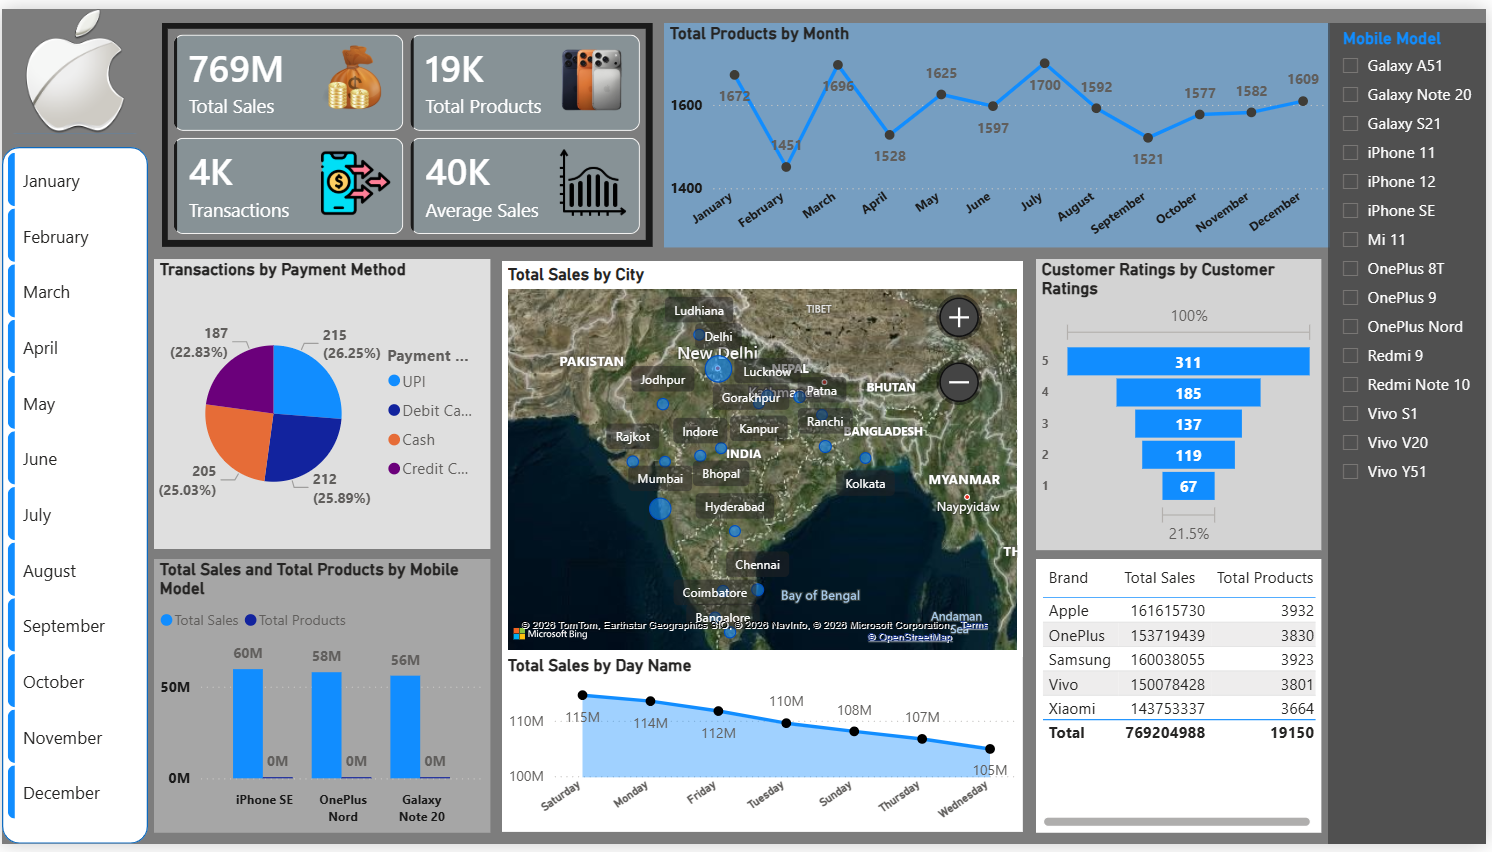

This screenshot's page, from the dashboard's own definition file:
{"tool":"powerbi","page":{"name":"Page 1","canvas":[1280,720],"ordinal":0},"visuals":[{"type":"shape","box":[0,0,125.9,107.7],"z":0},{"type":"image","box":[0,0,125.9,107.7],"z":1000},{"type":"shape","box":[0,119.8,125.9,600.6],"z":2000},{"type":"advancedSlicerVisual","fields":{"Values":["Data.Date.Variation.Date Hierarchy.Month"]},"box":[0,119.8,113.7,590],"z":3000},{"type":"cardVisual","fields":{"Data":["Data.Total Sales","Data.Total Products","Data.Transactions","Data.Average"]},"box":[137.1,11.4,422.9,192.9],"z":4000},{"type":"map","fields":{"Category":["Data.City"],"Size":["Data.Total Sales"]},"box":[431.1,216.4,449.2,341],"z":5000},{"type":"lineChart","fields":{"Category":["Data.Date.Variation.Date Hierarchy.Month"],"Y":["Data.Total Products"]},"box":[570.5,11.5,573.8,193.4],"z":6000},{"type":"clusteredColumnChart","fields":{"Y":["Data.Total Sales","Data.Total Products"],"Category":["Data.Mobile Model"]},"box":[131.1,473.8,290.2,236.1],"z":7000},{"type":"pieChart","fields":{"Category":["Data.Payment Method"],"Y":["Data.Transactions"]},"box":[131.4,215.7,290,250],"z":8000},{"type":"funnel","title":"Customer Ratings by Customer Ratings","fields":{"Category":["Data.Customer Ratings"],"Y":["CountNonNull(Data.Customer Ratings)"]},"box":[891.8,214.8,245.9,250.8],"z":9000},{"type":"areaChart","fields":{"Category":["Data.Day Name"],"Y":["Data.Total Sales"]},"box":[431.1,557.4,449.2,152.5],"z":10000},{"type":"tableEx","fields":{"Values":["Data.Brand","Data.Total Sales","Data.Total Products"]},"box":[891.8,473.8,245.9,236.1],"z":11000},{"type":"slicer","fields":{"Values":["Data.Mobile Model"]},"box":[1142.3,11.5,137.7,708.2],"z":12000}]}

Visuals, with their boxes in screenshot pixels (x1, y1, x2, y2), scaled from the page's 1280x720 canvas onto the 1492x852 screenshot:
shape: (0,0,147,127)
image: (0,0,147,127)
shape: (0,142,147,851)
advancedSlicerVisual - Data.Date.Variation.Date Hierarchy.Month: (0,142,133,840)
cardVisual - Data.Total Sales x Data.Total Products: (160,13,653,242)
map - Data.City x Data.Total Sales: (503,256,1026,660)
lineChart - Data.Date.Variation.Date Hierarchy.Month x Data.Total Products: (665,14,1334,242)
clusteredColumnChart - Data.Total Sales x Data.Total Products: (153,561,491,840)
pieChart - Data.Payment Method x Data.Transactions: (153,255,491,551)
"Customer Ratings by Customer Ratings" funnel: (1040,254,1326,551)
areaChart - Data.Day Name x Data.Total Sales: (503,660,1026,840)
tableEx - Data.Brand x Data.Total Sales: (1040,561,1326,840)
slicer - Data.Mobile Model: (1331,14,1491,851)
